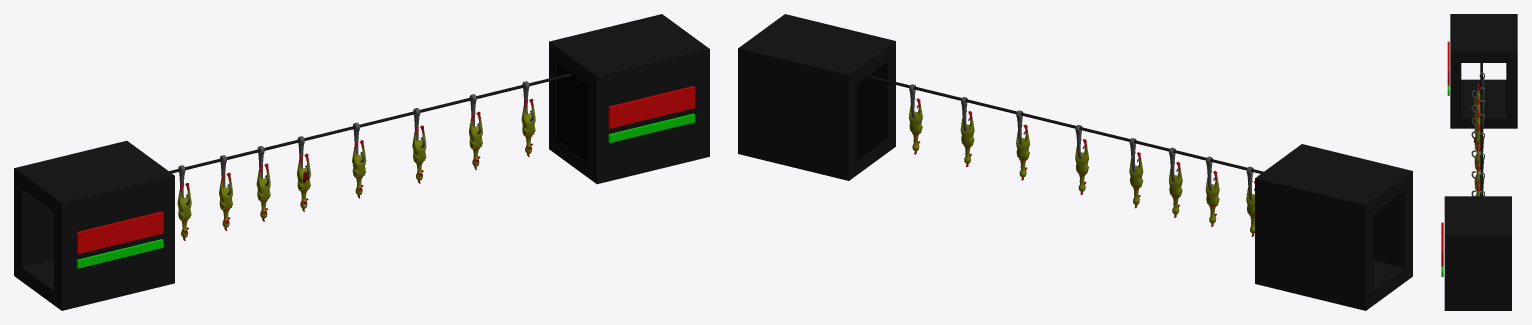
File: polloColgados.fbx
3 views of the same model, side by side, from view 1: azimuth 30°, elevation 25°; view 2: azimuth 150°, elevation 25°; view 3: azimuth 270°, elevation 25° (orthographic). The views are drawn at different scales.
Parts seen in each view (by area): view 1: Mesh; view 2: Mesh; view 3: Mesh.
Boxes of the visible parts, x1,y1,x2,y2 form: Mesh: (14,14,709,310); Mesh: (738,14,1412,310); Mesh: (1441,14,1517,310).
Size of the model in its own units: 5130 by 820 by 745.
